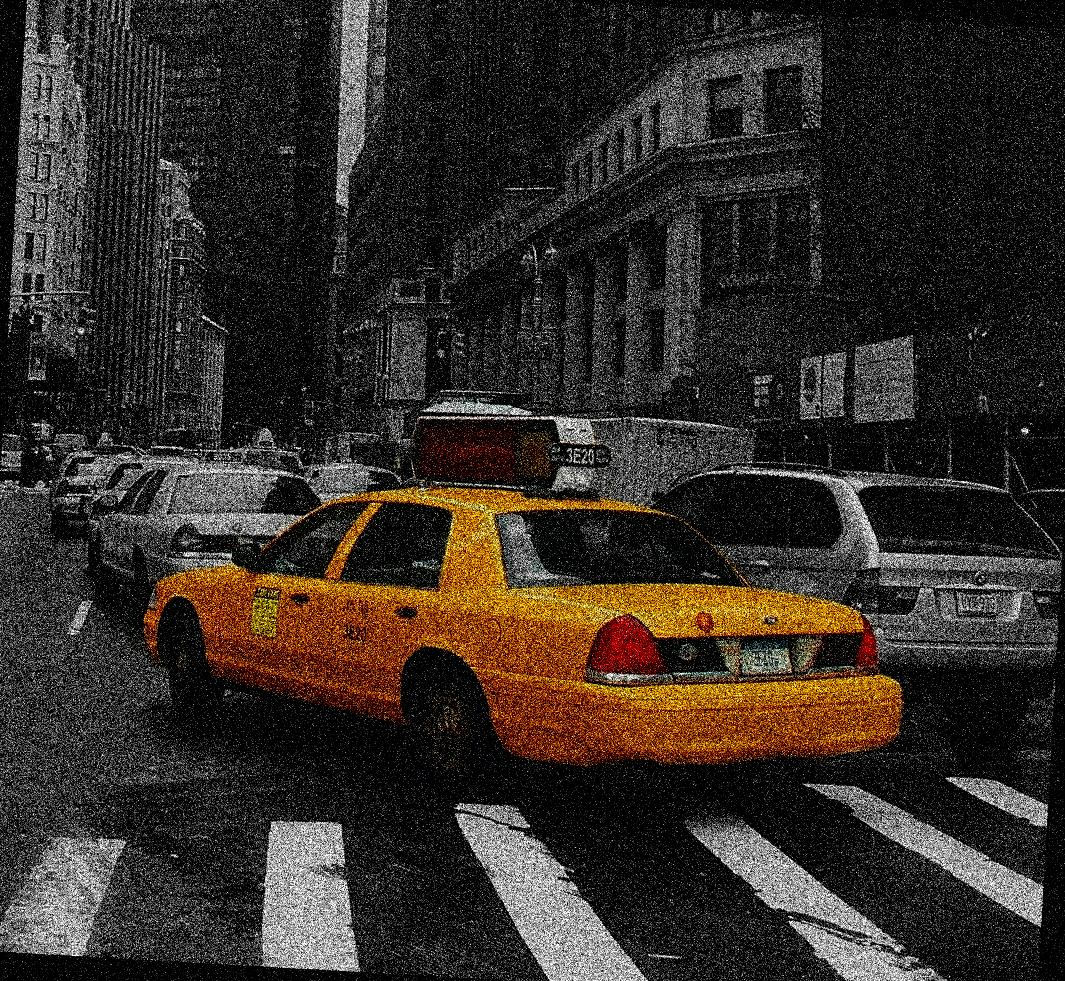taxi: (124, 456, 915, 789)
